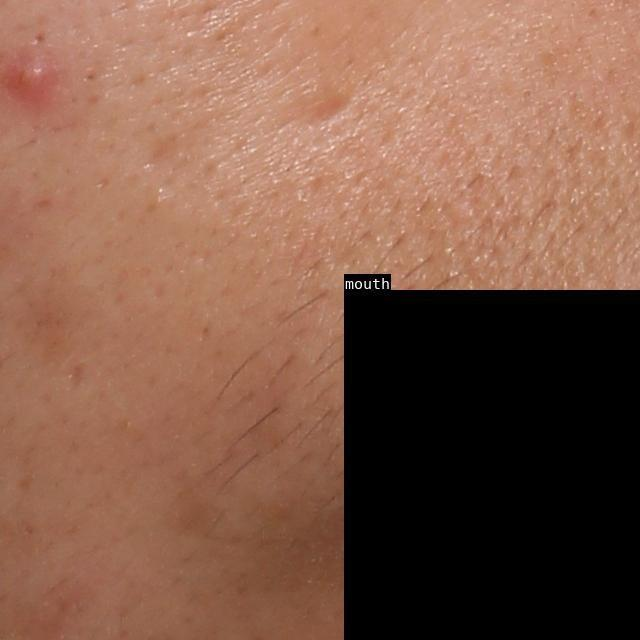atrophic_scar: (306, 91, 366, 125), (65, 353, 89, 397)
papule: (7, 54, 58, 96)
